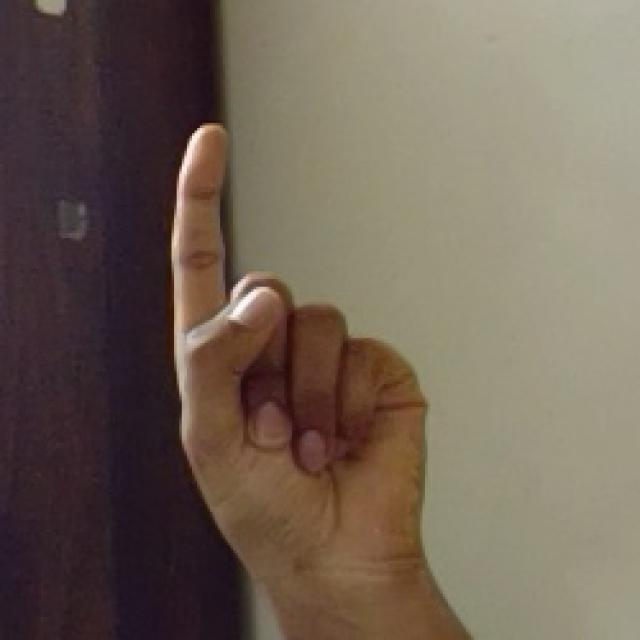Numeric-1: (165, 118, 427, 604)
